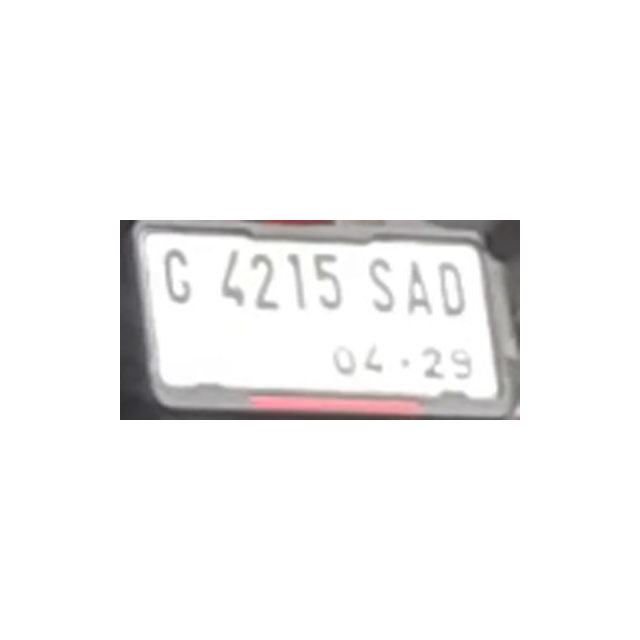contain: (433, 254, 469, 325), (401, 252, 435, 324), (246, 249, 280, 316), (163, 240, 197, 305), (311, 246, 342, 316), (371, 257, 401, 328), (282, 248, 311, 318), (218, 249, 246, 315)
